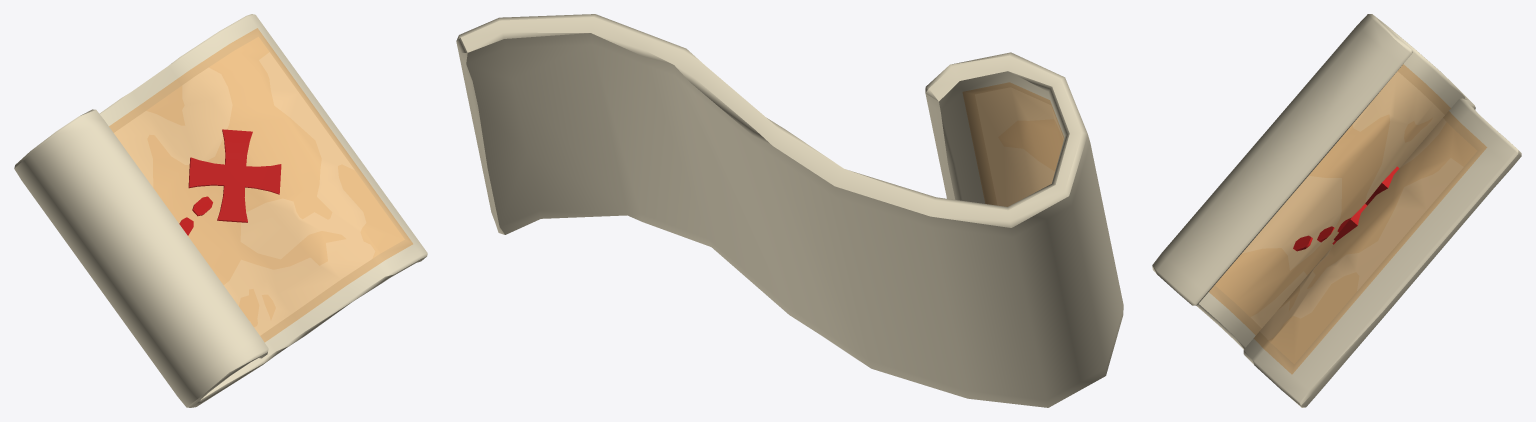
The picture shows the model from 3 angles, left to right: view 1: azimuth 30°, elevation 25°; view 2: azimuth 150°, elevation 25°; view 3: azimuth 270°, elevation 25°; orthographic projection. The views are drawn at different scales.
Parts seen in each view (by area): view 1: model_1.024; view 2: model_1.024; view 3: model_1.024.
Part boxes in pixels (<box>): model_1.024: <box>14,14,427,407</box>; model_1.024: <box>456,14,1123,407</box>; model_1.024: <box>1152,14,1521,407</box>.
Bounding box in the file's own units: 5 × 3.43 × 3.94.
